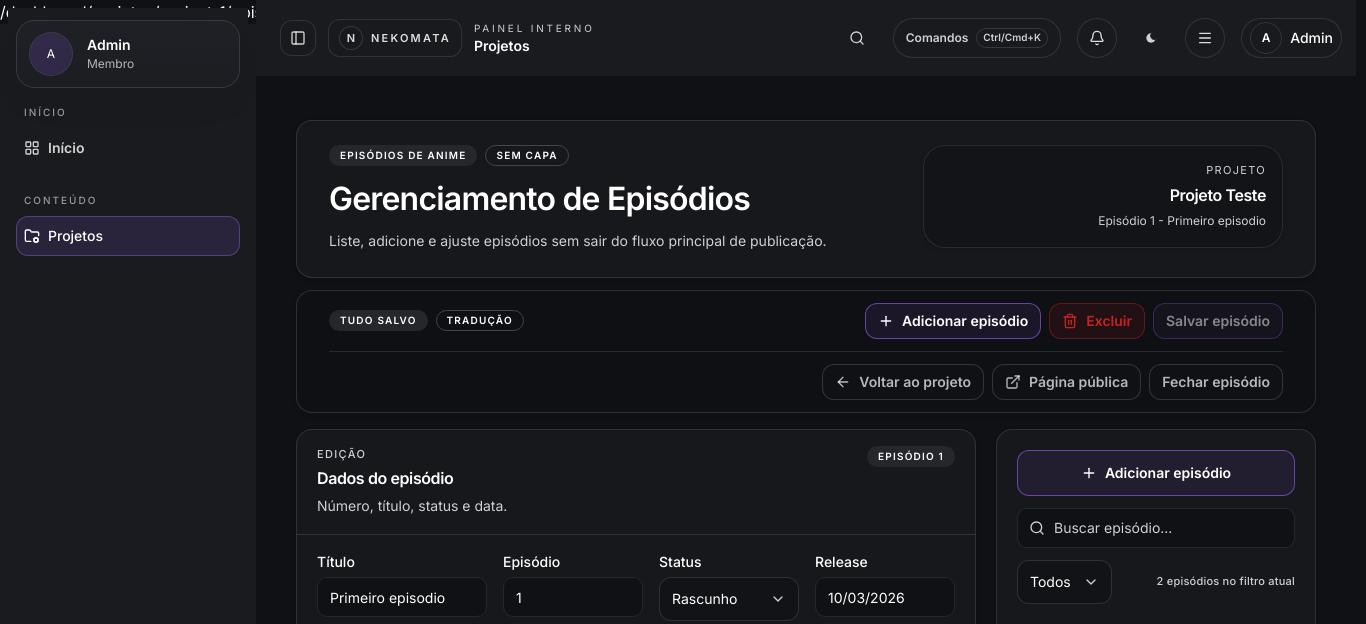
Scenario: DashboardProjectEpisodeEditor › remove o episódio ativo e retorna para a rota neutra
Expected: the heading "Gerenciamento de Episódios" is shown, x1=329 y1=179 x2=750 y2=218
Click the button "Excluir".
click(1097, 321)  # box x1=1049 y1=303 x2=1145 y2=339
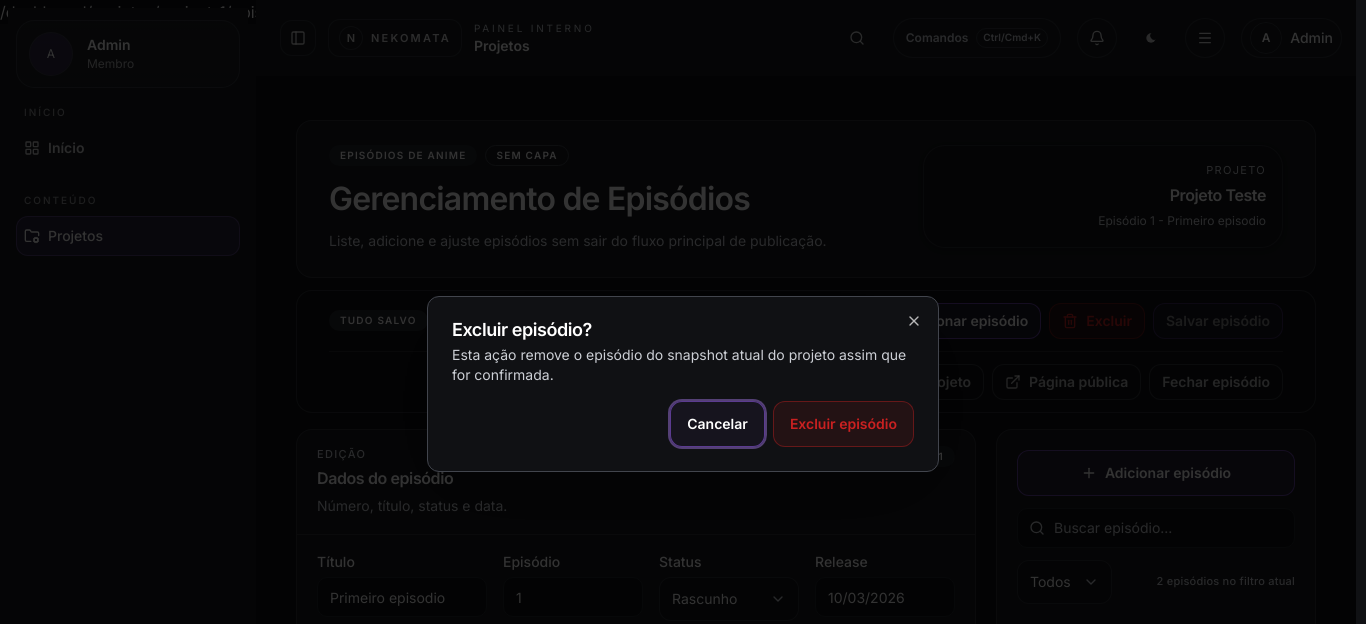
Now the dialog with test id "anime-episode-delete-dialog" is shown, box x1=427 y1=296 x2=939 y2=472
Click the button "Excluir episódio".
click(843, 424)  # box x1=773 y1=401 x2=914 y2=447
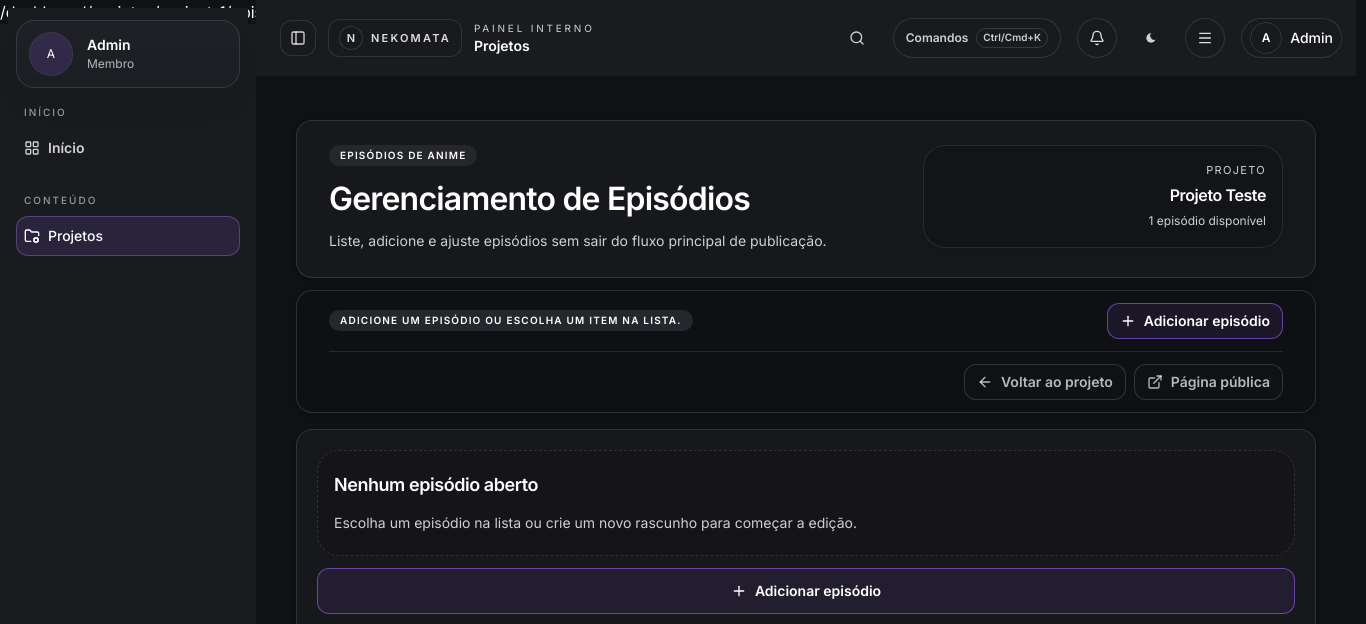
Now the text with test id "location" reads "/dashboard/projetos/project-1/episodios", box x1=0 y1=2 x2=304 y2=22
